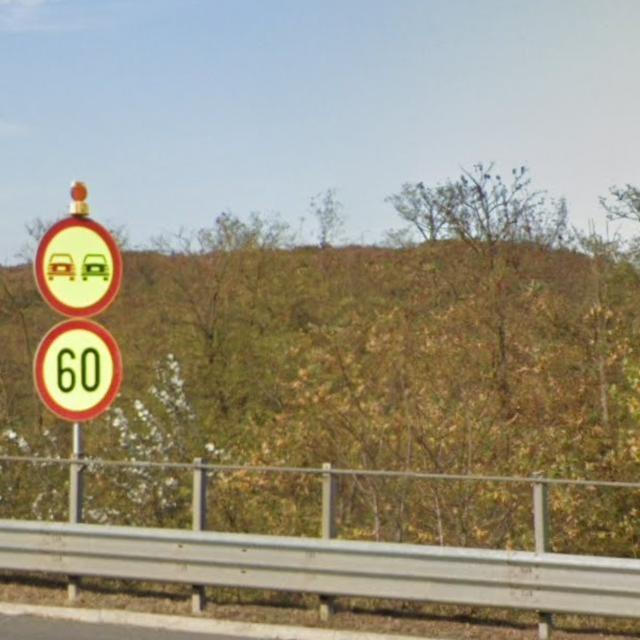forb_overtake: (36, 215, 125, 319)
forb_speed_over_60: (32, 317, 124, 425)
